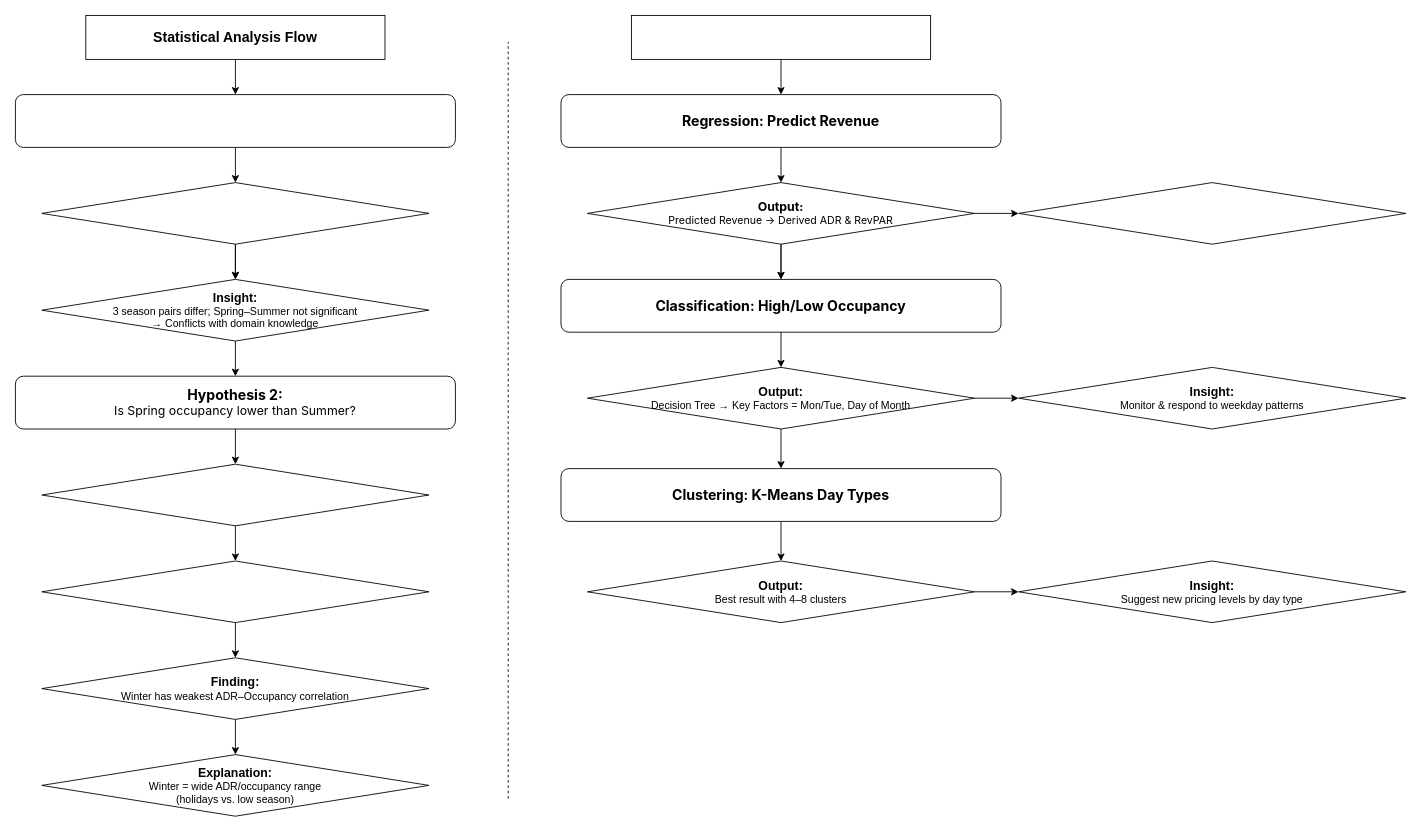
Image size: 1421x832. Some labels were removed from this diagram. Here are the shapes that lost their labels. From the top down, the centre of each, then its label:
At point (781, 37): "ML Regression & Classification Flow".
At point (235, 120): "Hypothesis 1: Are there seasonal differences in ADR?".
At point (235, 213): "Result: H0 Rejected Significant ADR differences between seasons".
At point (1212, 213): "Insight: Support future pricing forecasts & strategy".
At point (235, 494): "Result: H0 Rejected Spring occupancy significantly lower".
At point (235, 591): "Next Step: Check correlation between ADR & occupancy by season".
